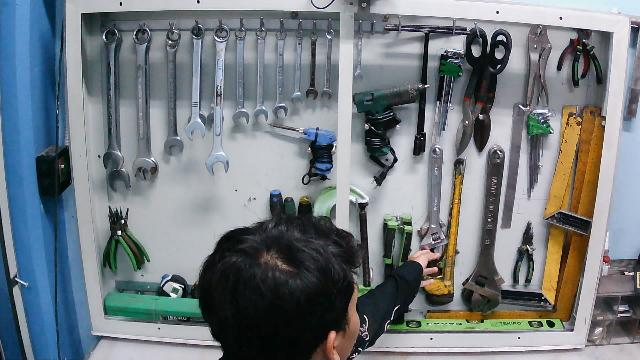kunci_inggris: (417, 140, 450, 265)
